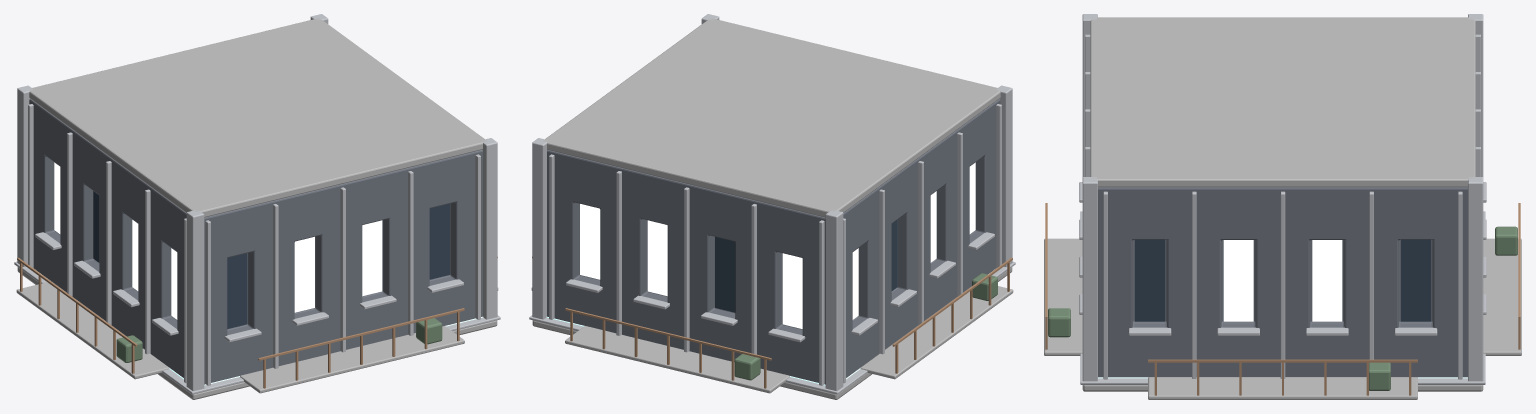
The model's file is res_5x5.glb.
3 views of the same model, side by side, from view 1: azimuth 30°, elevation 25°; view 2: azimuth 150°, elevation 25°; view 3: azimuth 270°, elevation 25° (orthographic). The views are drawn at different scales.
Parts seen in each view (by area): view 1: ext_wall, int_ceiling, ext_frames, int_columns, ext_panes_lit, ext_balcony3, ext_balcony2, ext_panes_dark, ext_rail3, ext_rail2, int_slab_edge, int_slab (+2 smaller); view 2: ext_wall, int_ceiling, ext_frames, int_columns, ext_panes_lit, ext_balcony1, ext_balcony2, ext_panes_dark, ext_rail1, ext_rail2, int_slab_edge, int_slab (+2 smaller); view 3: int_ceiling, ext_wall, ext_frames, int_columns, ext_balcony0, ext_panes_lit, ext_panes_dark, ext_balcony1, ext_balcony3, ext_rail0, int_slab_edge, int_slab (+5 smaller).
Part boxes in pixels (bbox=[...]): ext_wall: bbox=[29, 99, 482, 384]; int_ceiling: bbox=[29, 18, 486, 217]; ext_frames: bbox=[28, 104, 480, 385]; int_columns: bbox=[17, 14, 497, 390]; ext_panes_lit: bbox=[54, 162, 382, 319]; ext_balcony3: bbox=[240, 326, 464, 393]; ext_balcony2: bbox=[16, 282, 169, 379]; ext_panes_dark: bbox=[93, 191, 449, 328]; ext_rail3: bbox=[258, 308, 464, 388]; ext_rail2: bbox=[17, 257, 137, 373]; int_slab_edge: bbox=[14, 261, 500, 394]; int_slab: bbox=[17, 267, 497, 399]; ext_wall: bbox=[547, 99, 1000, 384]; int_ceiling: bbox=[543, 18, 1000, 217]; ext_frames: bbox=[549, 104, 1001, 385]; int_columns: bbox=[532, 14, 1012, 390]; ext_panes_lit: bbox=[580, 162, 975, 328]; ext_balcony1: bbox=[565, 326, 789, 393]; ext_balcony2: bbox=[860, 286, 1013, 379]; ext_panes_dark: bbox=[715, 220, 897, 312]; ext_rail1: bbox=[565, 308, 771, 388]; ext_rail2: bbox=[892, 257, 1012, 373]; int_slab_edge: bbox=[529, 261, 1015, 394]; int_slab: bbox=[532, 267, 1012, 399]; int_ceiling: bbox=[1090, 17, 1475, 187]; ext_wall: bbox=[1098, 187, 1467, 377]; ext_frames: bbox=[1079, 34, 1486, 379]; int_columns: bbox=[1082, 14, 1483, 381]; ext_balcony0: bbox=[1148, 377, 1417, 399]; ext_panes_lit: bbox=[1223, 240, 1342, 321]; ext_panes_dark: bbox=[1135, 239, 1430, 321]; ext_balcony1: bbox=[1483, 238, 1521, 355]; ext_balcony3: bbox=[1044, 238, 1082, 355]; ext_rail0: bbox=[1148, 359, 1417, 395]; int_slab_edge: bbox=[1080, 211, 1485, 384]; int_slab: bbox=[1082, 385, 1483, 391].
Size of the model in its own units: 6.2 by 3 by 6.2.
